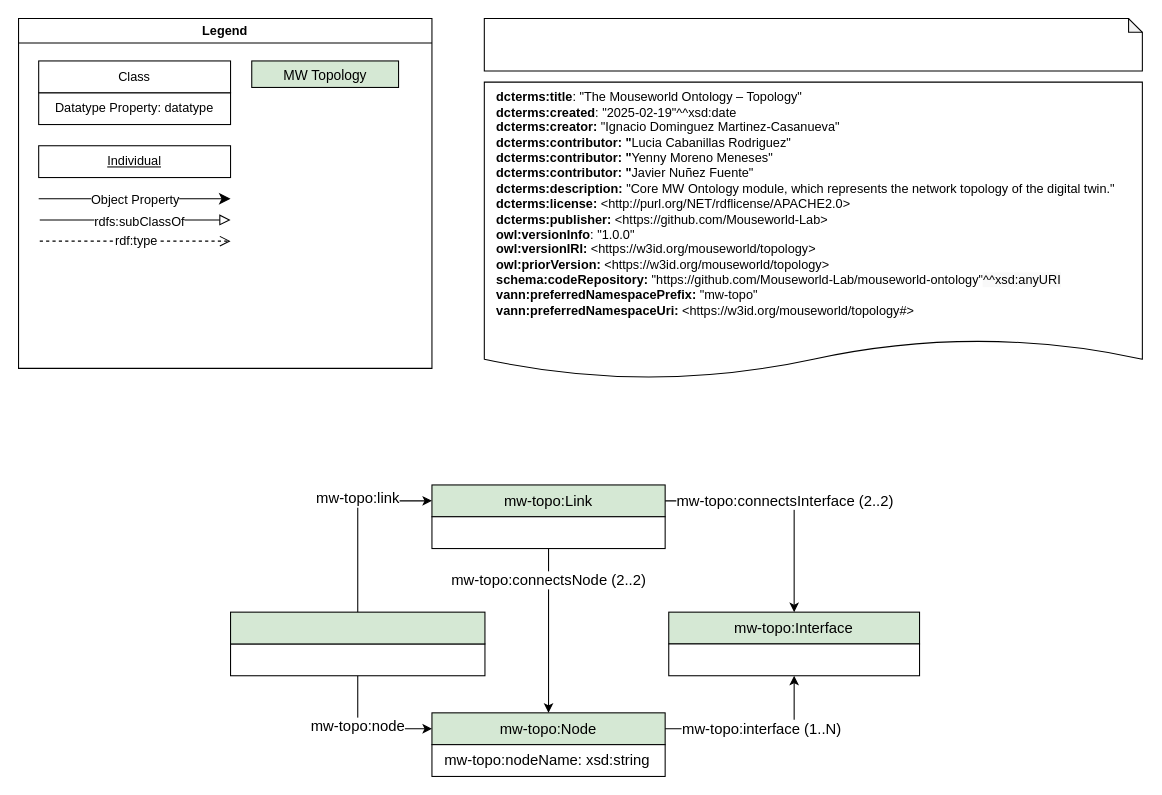
The diagram is 1162 pixels wide and 795 high, and some of its shapes have lost their labels. Here are the shapes that lost their labels. From the top down, the centre of each, then its label:
At [812,44]: "mw-topo : https://w3id.org/mouseworld/topology# schema: http://schema.org/".
At [548,532]: "mw-topo:linkName: xsd:string".
At [357,627]: "mw-topo:Topology".
At [357,659]: "mw-topo:topologyName: xsd:string".
At [794,659]: "mw-topo:interfaceName: xsd:string".
